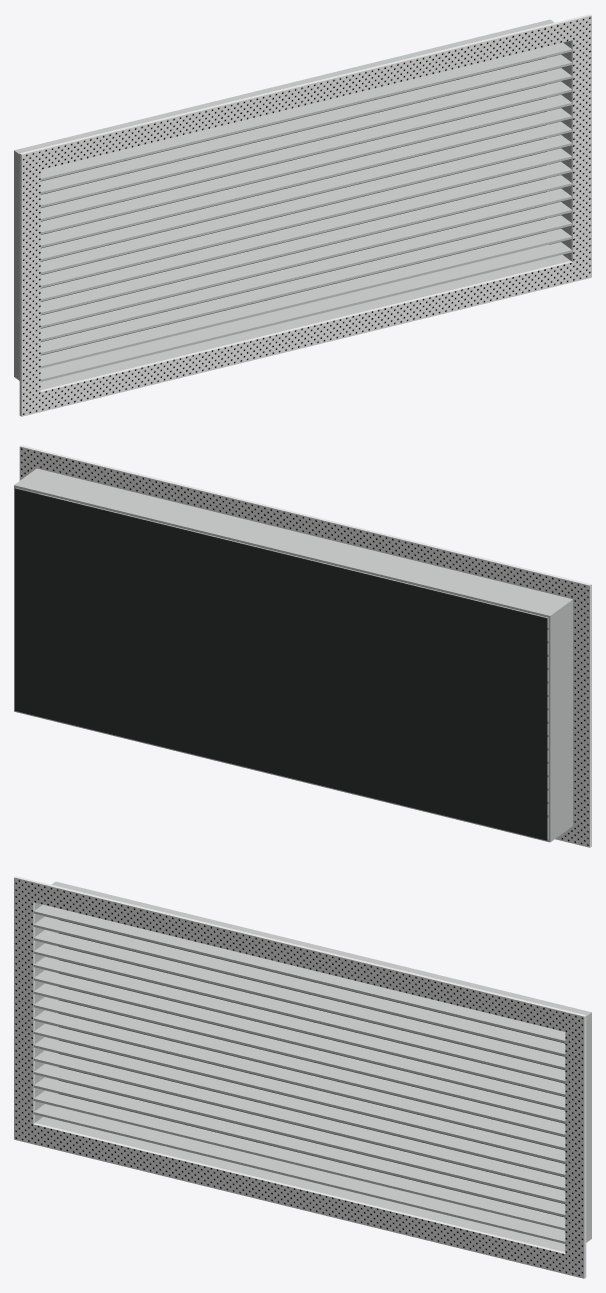
The model's file is ecoclima-ebls-500x200.glb.
3 views of the same model, one above another, from view 1: azimuth 30°, elevation 25°; view 2: azimuth 150°, elevation 25°; view 3: azimuth 330°, elevation 25° (orthographic).
Parts seen in each view (by area): view 1: Profile_cornice.004, Profile_cornice.005, Profile_barra.023, Profile_barra.013, Profile_barra.019, Profile_barra.021, Profile_barra.011, Profile_barra.015, Profile_barra.016, Profile_barra.017, Profile_barra.022, Profile_barra.010 (+13 smaller); view 2: Interno.001, Profile_ritorno.004, Profile_cornice.004, Profile_ritorno.006, Profile_cornice.006, Profile_ritorno.005, Profile_barra.024, Profile_cornice.005; view 3: Profile_cornice.004, Profile_cornice.005, Profile_barra.023, Profile_barra.013, Profile_barra.019, Profile_barra.021, Profile_barra.011, Profile_barra.015, Profile_barra.016, Profile_barra.017, Profile_barra.022, Profile_barra.010 (+13 smaller).
Boxes of the visible parts, left/top/right/bottom form: Profile_cornice.004: left=19, top=14, right=591, bottom=174; Profile_cornice.005: left=19, top=257, right=591, bottom=416; Profile_barra.023: left=40, top=68, right=572, bottom=207; Profile_barra.013: left=40, top=202, right=572, bottom=341; Profile_barra.019: left=40, top=121, right=572, bottom=261; Profile_barra.021: left=40, top=95, right=572, bottom=234; Profile_barra.011: left=40, top=228, right=572, bottom=368; Profile_barra.015: left=40, top=175, right=572, bottom=314; Profile_barra.016: left=40, top=161, right=572, bottom=301; Profile_barra.017: left=40, top=148, right=572, bottom=287; Profile_barra.022: left=40, top=81, right=572, bottom=220; Profile_barra.010: left=40, top=242, right=572, bottom=381; Interno.001: left=15, top=488, right=547, bottom=840; Profile_ritorno.004: left=14, top=468, right=572, bottom=617; Profile_cornice.004: left=19, top=445, right=591, bottom=605; Profile_ritorno.006: left=548, top=602, right=572, bottom=840; Profile_cornice.006: left=573, top=601, right=591, bottom=827; Profile_ritorno.005: left=14, top=709, right=572, bottom=842; Profile_barra.024: left=39, top=493, right=548, bottom=629; Profile_cornice.005: left=555, top=823, right=591, bottom=847; Profile_cornice.004: left=14, top=876, right=586, bottom=1036; Profile_cornice.005: left=14, top=1119, right=586, bottom=1278; Profile_barra.023: left=33, top=930, right=565, bottom=1069; Profile_barra.013: left=33, top=1064, right=565, bottom=1203; Profile_barra.019: left=33, top=983, right=565, bottom=1123; Profile_barra.021: left=33, top=957, right=565, bottom=1096; Profile_barra.011: left=33, top=1090, right=565, bottom=1230; Profile_barra.015: left=33, top=1037, right=565, bottom=1176; Profile_barra.016: left=33, top=1023, right=565, bottom=1163; Profile_barra.017: left=33, top=1010, right=565, bottom=1149; Profile_barra.022: left=33, top=943, right=565, bottom=1082; Profile_barra.010: left=33, top=1104, right=565, bottom=1243.
Bounding box in the file's own units: 0.535 × 0.235 × 0.042.
3 materials, 1 textured.
